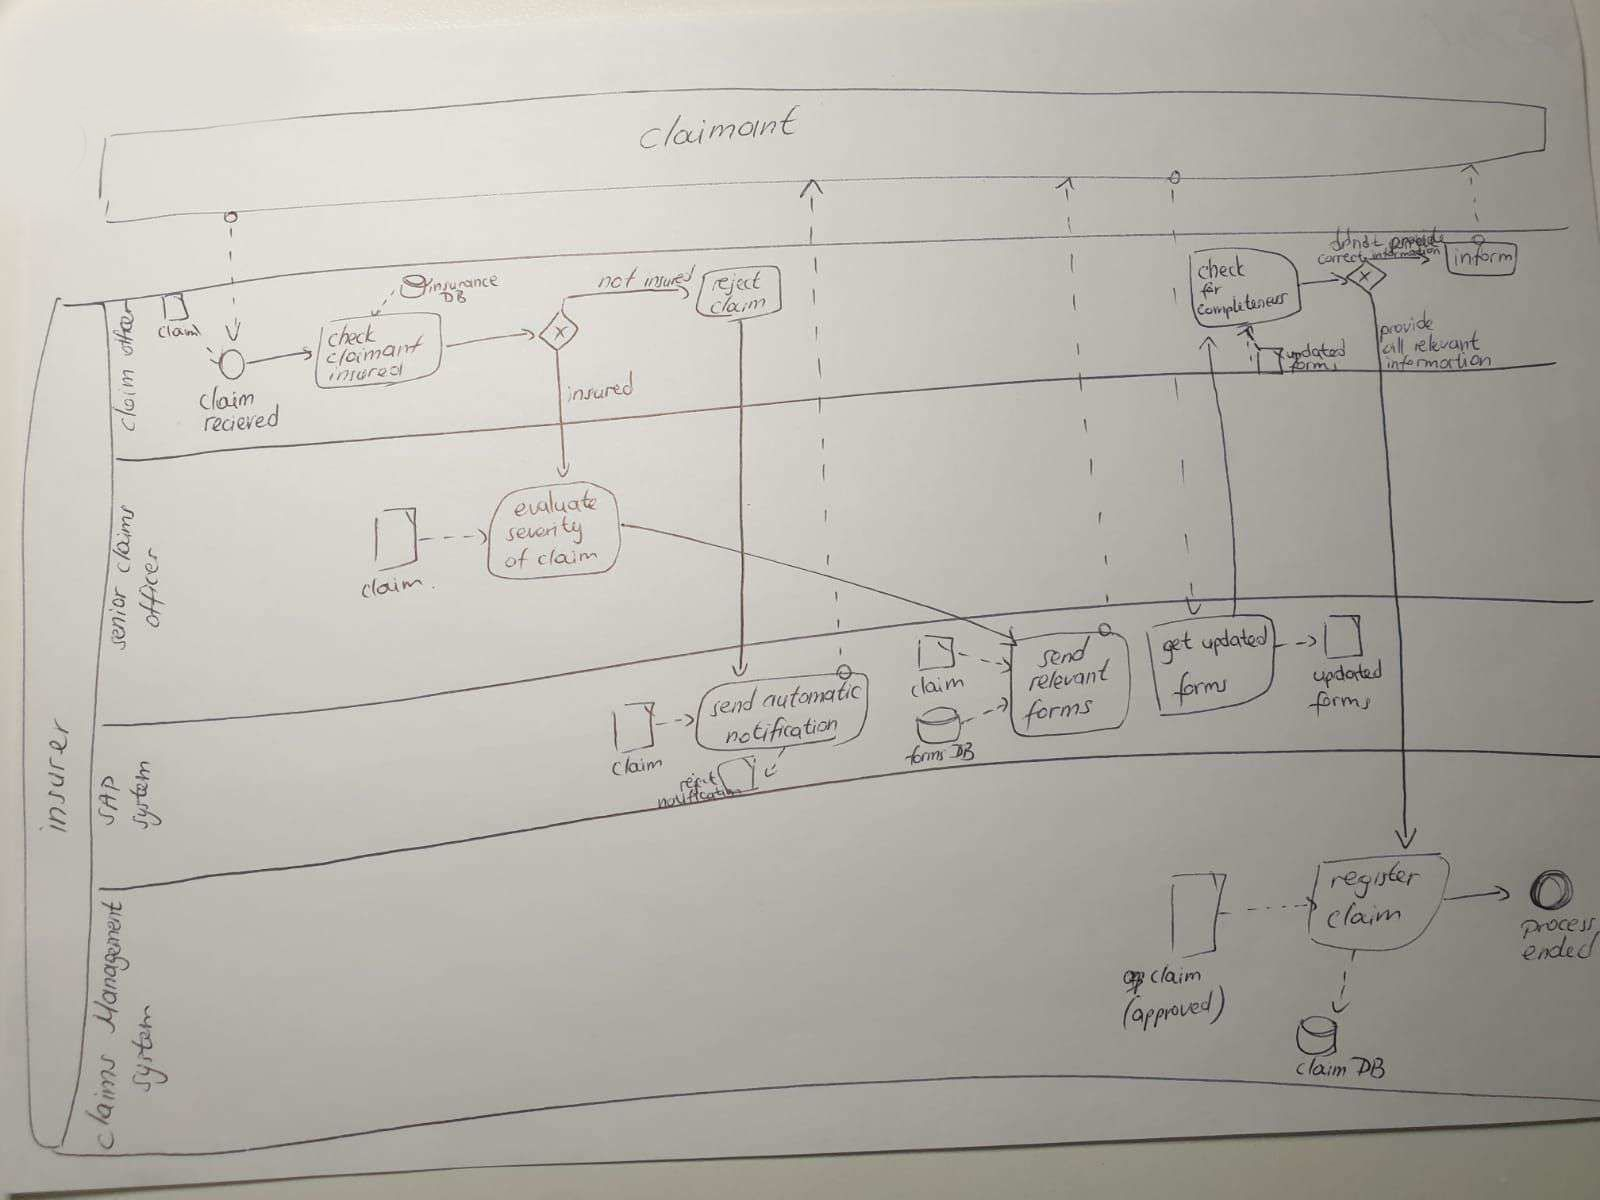(approved): (1125, 987, 1227, 1034)
Claim: (711, 295, 767, 318)
DB: (1358, 1058, 1386, 1082), (443, 287, 472, 305), (952, 742, 975, 764)
Management: (88, 892, 130, 1018)
SAP: (94, 774, 122, 823)
System: (126, 759, 156, 832)
automatic: (762, 678, 867, 715)
call: (1380, 337, 1406, 359)
check: (325, 321, 379, 348), (1198, 253, 1249, 280)
claim: (359, 567, 425, 604), (1324, 903, 1402, 932), (1145, 961, 1207, 992), (113, 361, 139, 434), (198, 384, 257, 413), (906, 672, 968, 700), (534, 546, 602, 570), (1293, 1058, 1356, 1082), (609, 751, 663, 779), (157, 324, 200, 340)
claimant: (640, 105, 803, 156), (324, 334, 428, 367)
claims: (84, 1039, 122, 1150), (110, 505, 139, 574)
completeness: (1198, 289, 1290, 321)
correct: (1317, 252, 1366, 266)
didnt: (1327, 228, 1383, 250)
ended: (1521, 940, 1597, 966)
evaluate: (514, 492, 598, 521)
for: (1199, 281, 1227, 300)
forms: (1167, 668, 1231, 705), (1024, 696, 1094, 724), (1306, 689, 1373, 717), (905, 744, 951, 768), (1288, 358, 1340, 374)
get: (1155, 632, 1194, 664)
inform: (1450, 247, 1516, 268)
information: (1382, 353, 1493, 372), (1367, 250, 1446, 258)
insurance: (425, 274, 501, 294)
insured: (562, 373, 641, 407), (321, 361, 406, 384), (639, 262, 700, 290)
insurer: (38, 720, 73, 839)
not: (597, 263, 641, 292)
notification: (723, 710, 839, 751), (655, 788, 745, 807)
of: (504, 550, 530, 572)
officer: (137, 543, 164, 629), (113, 295, 137, 357)
process: (1524, 914, 1597, 942)
provide: (1376, 313, 1437, 343), (1388, 229, 1444, 248)
recieved: (202, 408, 283, 436)
register: (1328, 862, 1420, 897)
reject: (708, 271, 763, 297), (673, 771, 722, 789)
relevant: (1023, 661, 1112, 697), (1407, 330, 1484, 355)
send: (706, 689, 761, 724), (1037, 642, 1094, 671)
senior: (108, 584, 134, 650)
severity: (503, 518, 587, 547)
system: (129, 1001, 160, 1092)
updated: (1197, 625, 1280, 657), (1313, 661, 1385, 688), (1284, 339, 1349, 362)
